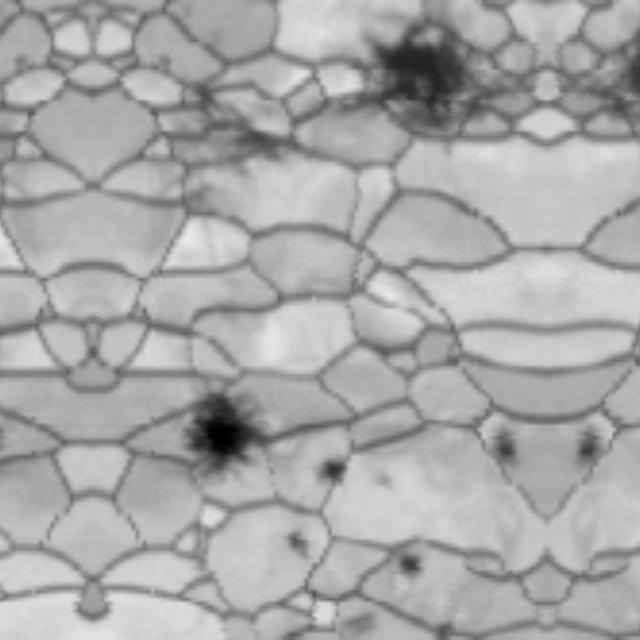good_void: (363, 0, 501, 155), (173, 384, 280, 482), (196, 89, 308, 179), (595, 12, 640, 155), (146, 177, 230, 233), (0, 177, 40, 233), (313, 453, 351, 490), (365, 460, 402, 498), (494, 423, 520, 470), (576, 423, 602, 470), (386, 548, 425, 577), (281, 525, 312, 556), (426, 617, 465, 640)
